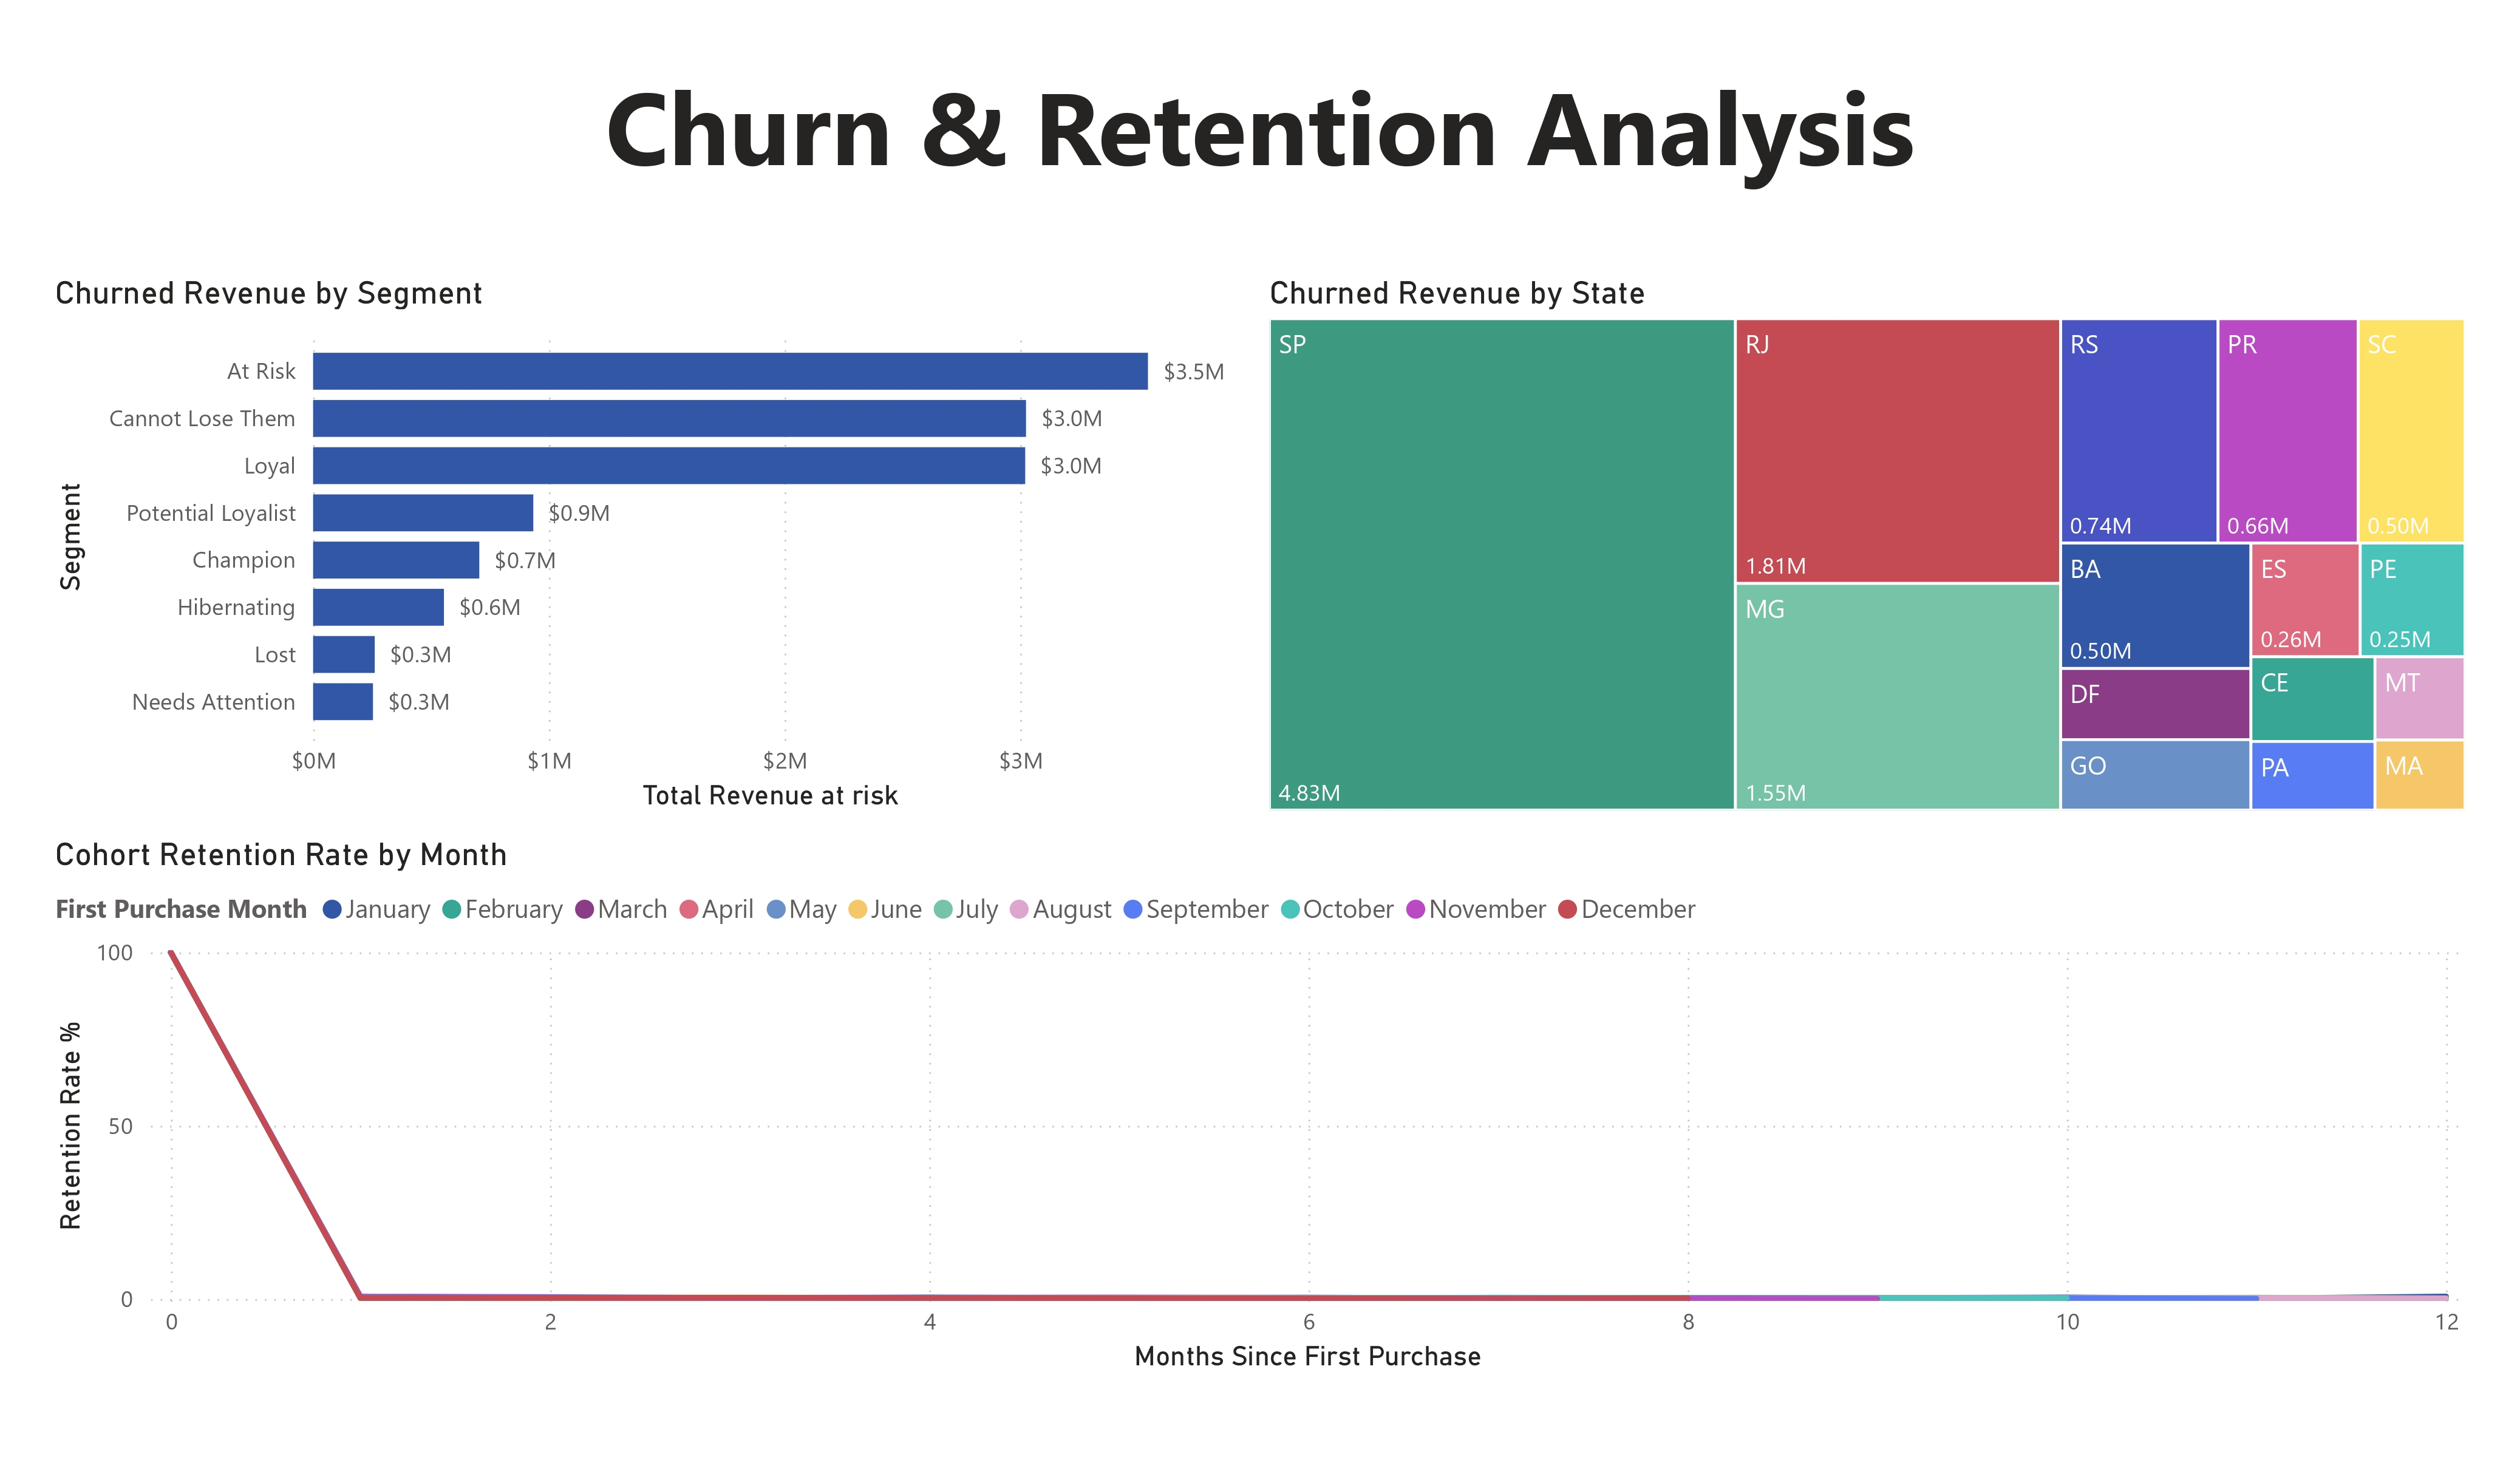

Layout of this report page (visuals, bound fields, positions):
{"tool":"powerbi","page":{"name":"churn & retention","canvas":[1280,720],"ordinal":2},"visuals":[{"type":"textbox","box":[0,0,1280,128],"z":0},{"type":"clusteredBarChart","title":"Churned Revenue by Segment","fields":{"Category":["rfm_segments.segment"],"Y":["Sum(revenue_at_risk.revenue_at_risk)"]},"box":[0,120,640,288],"z":1000},{"type":"treemap","title":"Churned Revenue by State","fields":{"Group":["churn_by_state.customer_state"],"Values":["Sum(churn_by_state.churned_revenue)"]},"box":[640,120,640,288],"z":2000},{"type":"lineChart","title":"Cohort Retention Rate by Month","fields":{"Category":["cohort_retention.month_number"],"Y":["Avg(cohort_retention.retention_rate_pct)"],"Series":["cohort_retention.cohort_month.Variation.Date Hierarchy.Month"]},"box":[0,416,1280,288],"z":3000}]}

Visuals, with their boxes on the page's 1280x720 design canvas (x1, y1, x2, y2). These are canvas units, not pixel positions in the 2520x1457 screenshot, which may show the page scaled, cropped or inside an application window:
textbox: BBox(0, 0, 1280, 128)
"Churned Revenue by Segment" clusteredBarChart: BBox(0, 120, 640, 408)
"Churned Revenue by State" treemap: BBox(640, 120, 1280, 408)
"Cohort Retention Rate by Month" lineChart: BBox(0, 416, 1280, 704)
